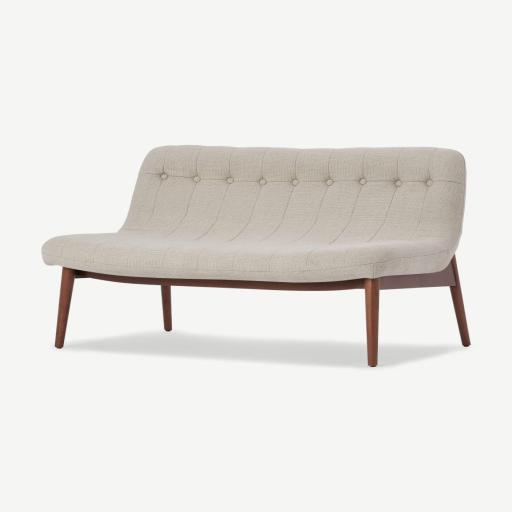back_cushion: (123, 146, 464, 245)
legs: (55, 256, 470, 367)
seat_cushion: (0, 0, 511, 512), (42, 231, 456, 282)
